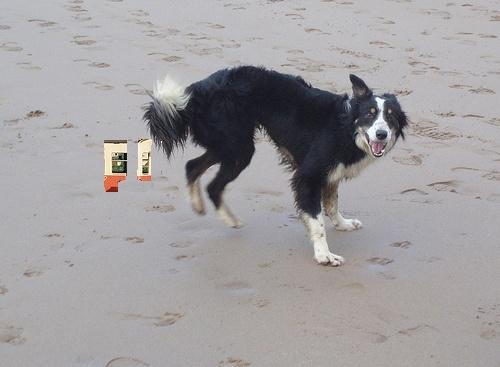tampered: (105, 140, 162, 192)
